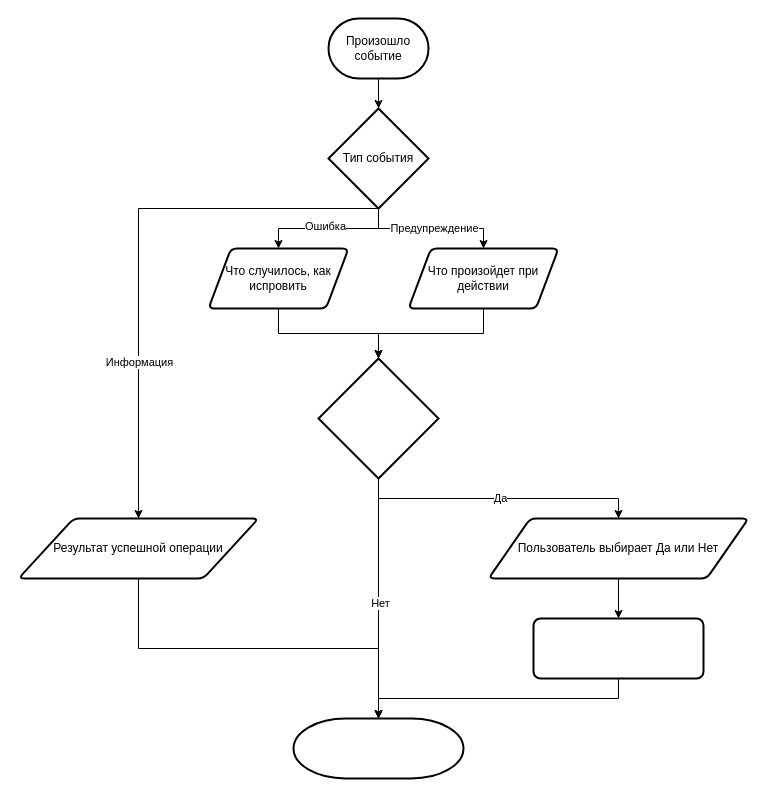
Image size: 766x796. Some labels were removed from this diagram. The shapes that lost their labels are listed below. From the top down, each one's centre as x and y in pixels, then its label:
At (x=378, y=418): "Нужно подтверждение?".
At (x=618, y=648): "Выполнить действие или безопасно отменить".
At (x=378, y=748): "Вернуть к работе с формой".
